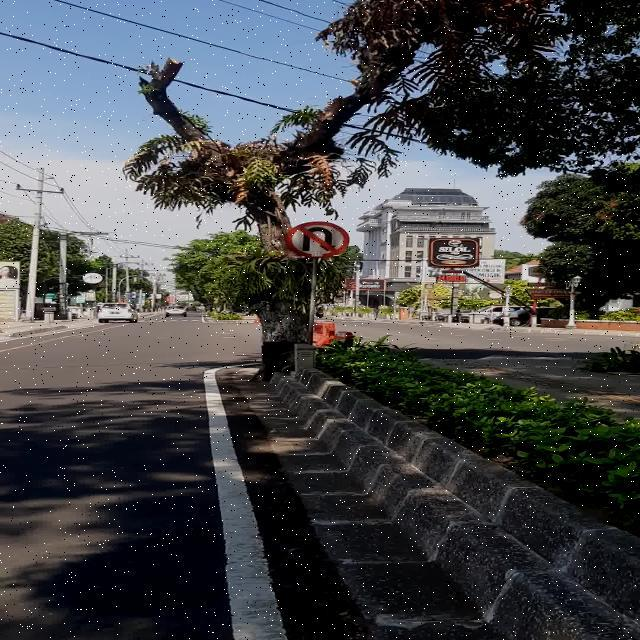Dilarang Putar Balik: (286, 220, 350, 258)
